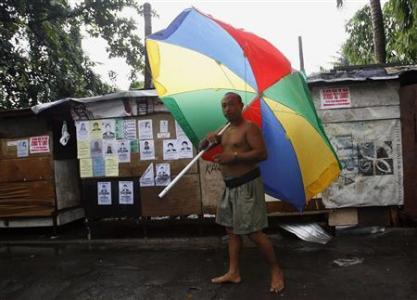person: (199, 92, 286, 295)
